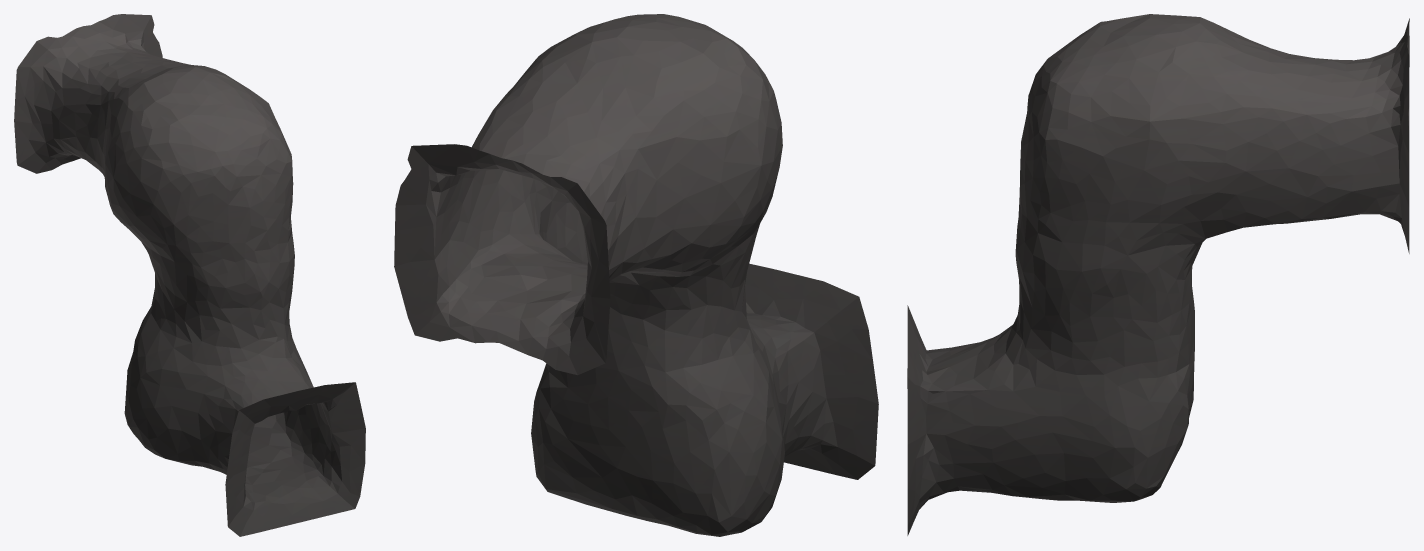
File: ZLP_Cave_A_1.FBX
3 views of the same model, side by side, from view 1: azimuth 30°, elevation 25°; view 2: azimuth 150°, elevation 25°; view 3: azimuth 270°, elevation 25° (orthographic). The views are drawn at different scales.
Parts seen in each view (by area): view 1: ZLP_Cave_A_1; view 2: ZLP_Cave_A_1; view 3: ZLP_Cave_A_1.
Part boxes in pixels (box(x1,y1,x2,y2)): ZLP_Cave_A_1: box(14, 14, 365, 536); ZLP_Cave_A_1: box(394, 14, 878, 536); ZLP_Cave_A_1: box(907, 14, 1409, 535).
Bounding box in the file's own units: 1802 × 3921 × 3796.
